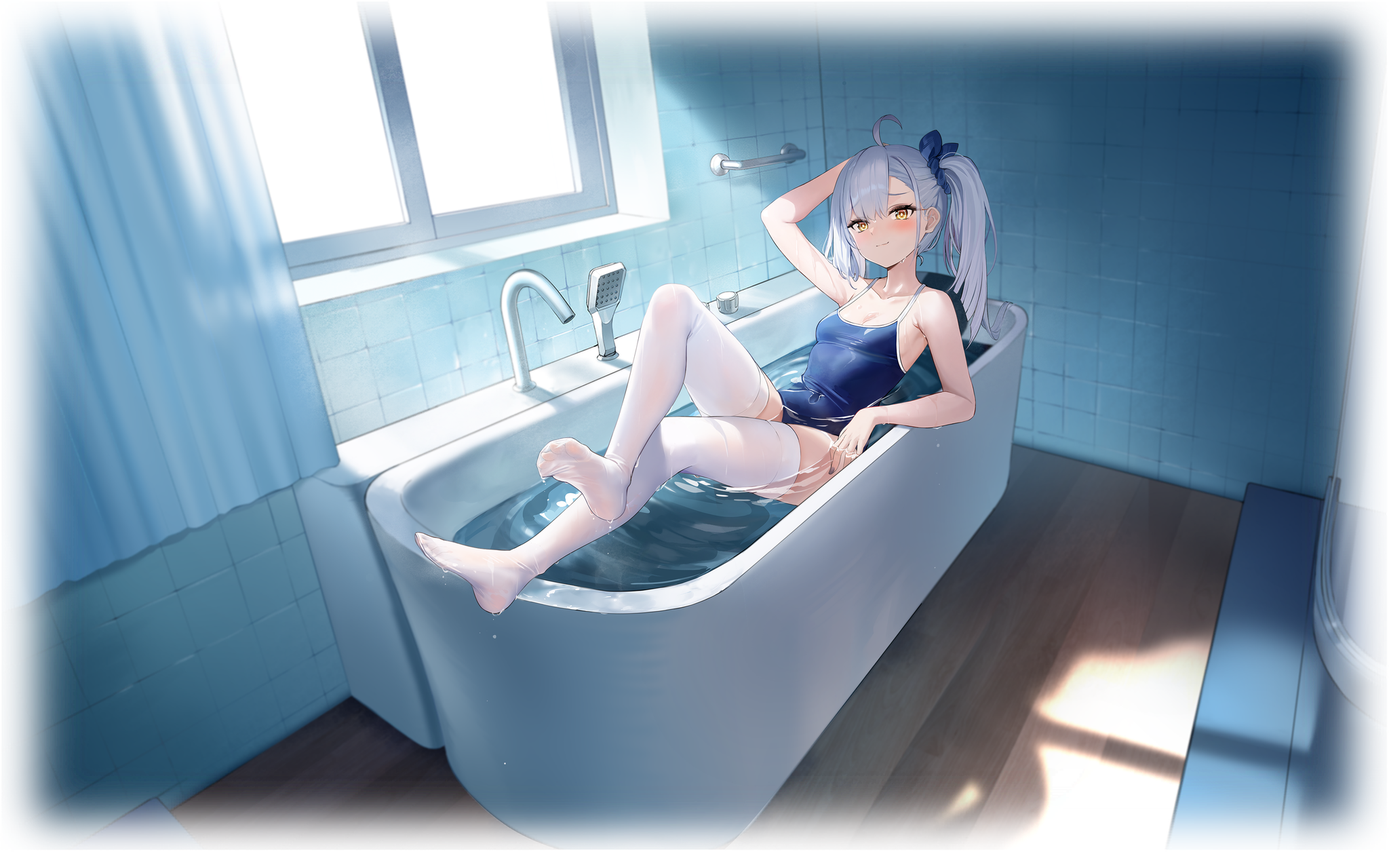person: (233, 75, 1070, 844)
